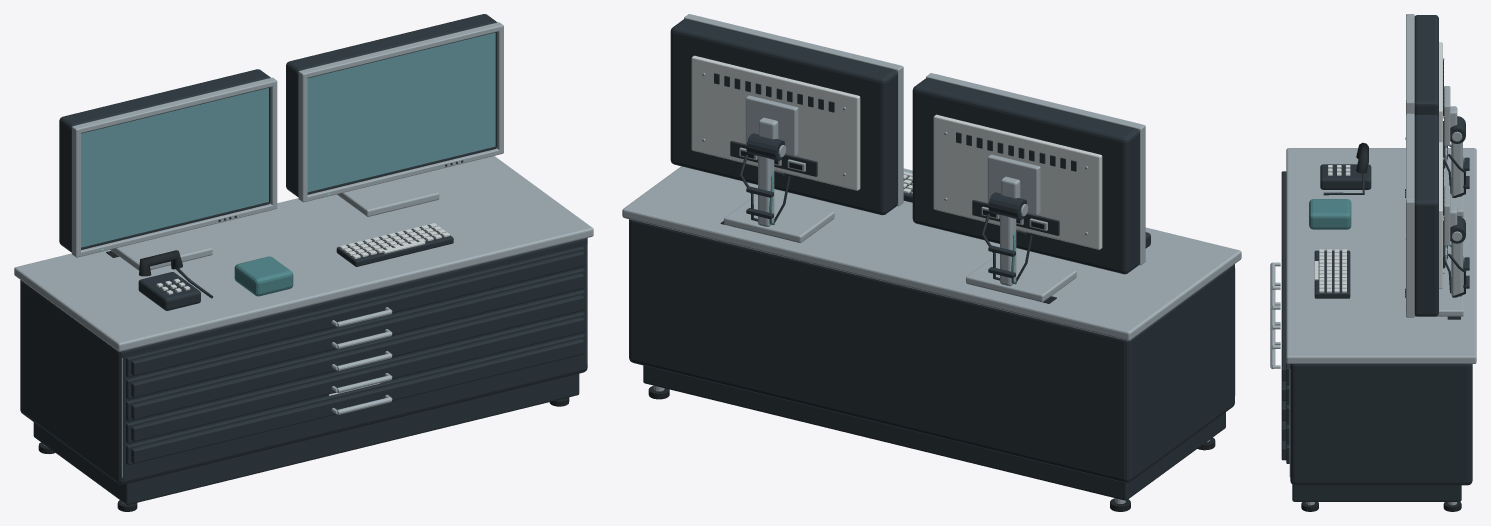
The model's file is SF_CentralOperatorDesk.fbx.
The picture shows the model from 3 angles, left to right: view 1: azimuth 30°, elevation 25°; view 2: azimuth 150°, elevation 25°; view 3: azimuth 270°, elevation 25°; orthographic projection. The views are drawn at different scales.
Parts seen in each view (by area): view 1: SF_CentralOperatorDesk; view 2: SF_CentralOperatorDesk; view 3: SF_CentralOperatorDesk.
Part boxes in pixels (bbox=[...]): SF_CentralOperatorDesk: bbox=[14, 14, 593, 511]; SF_CentralOperatorDesk: bbox=[622, 14, 1241, 511]; SF_CentralOperatorDesk: bbox=[1270, 14, 1476, 511].
Size of the model in its own units: 222 by 152 by 92.65.
